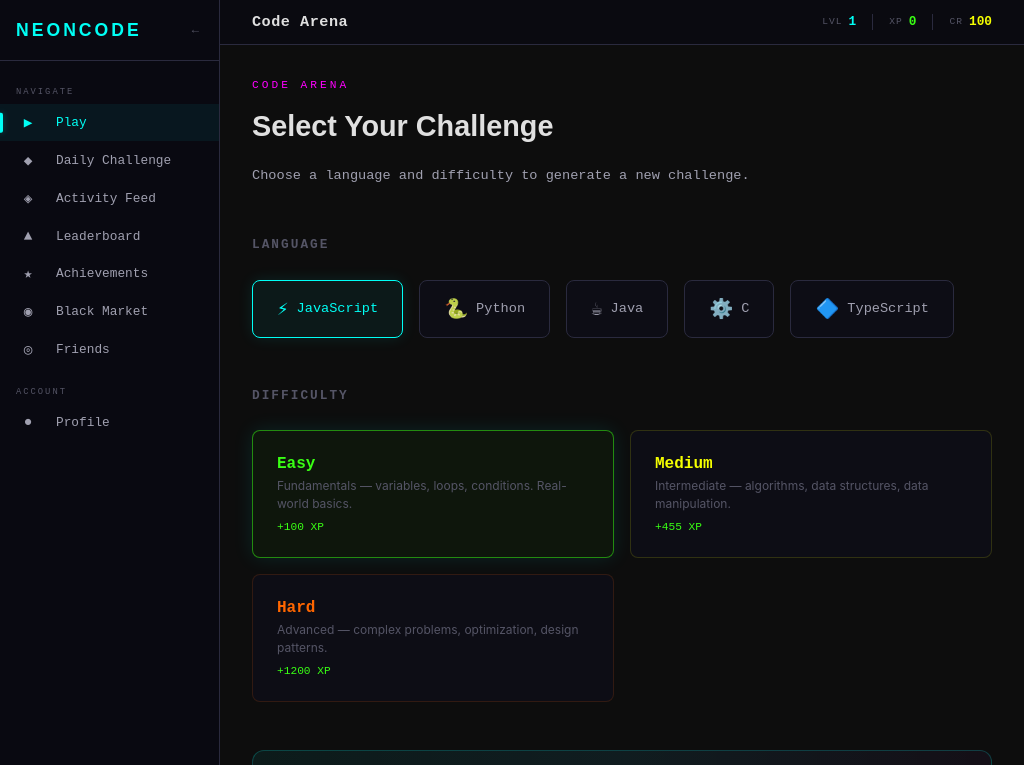
Test: MainPage › switches to leaderboard view
Click the button "▲ Leaderboard" at (110, 236), box 0,218 -> 219,254
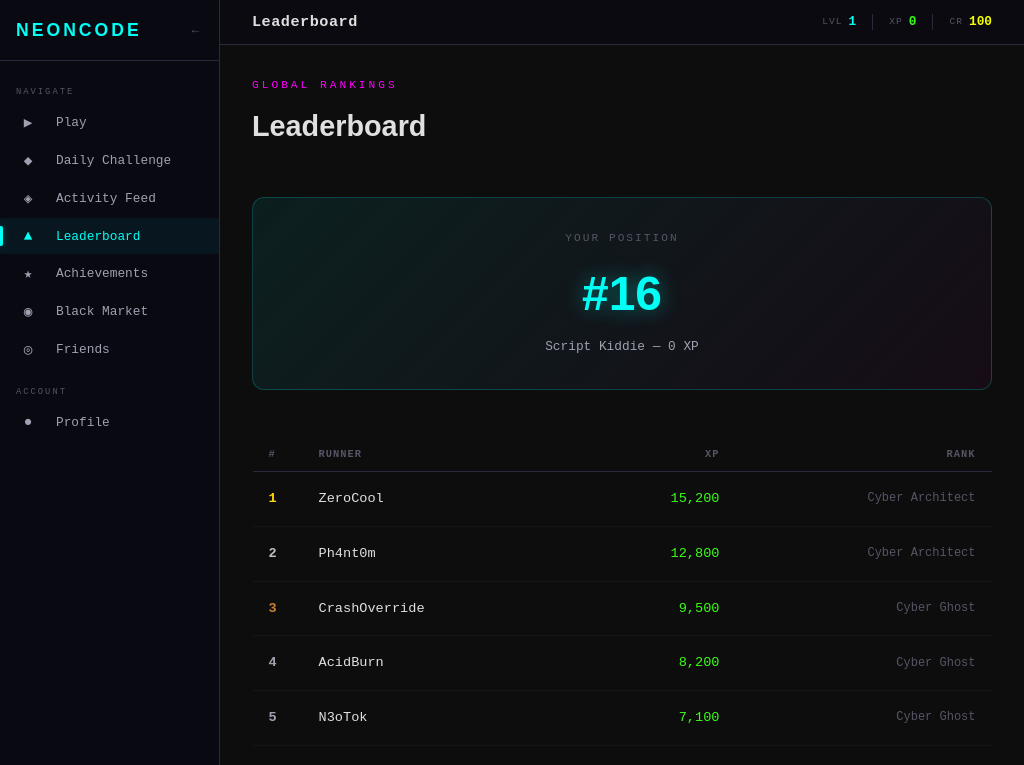
Expected: the text "Your Position" is shown, 565,232 -> 679,244
